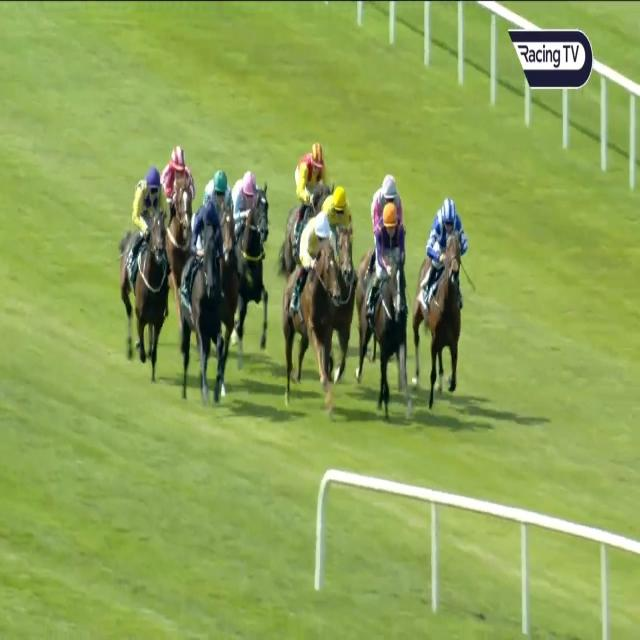horses-racing: (358, 216, 413, 417), (284, 202, 336, 412), (416, 191, 464, 404), (123, 167, 170, 373), (186, 186, 224, 404), (225, 161, 272, 313), (288, 134, 332, 265), (203, 163, 241, 293), (162, 144, 196, 269), (324, 177, 360, 254), (368, 165, 404, 239)
